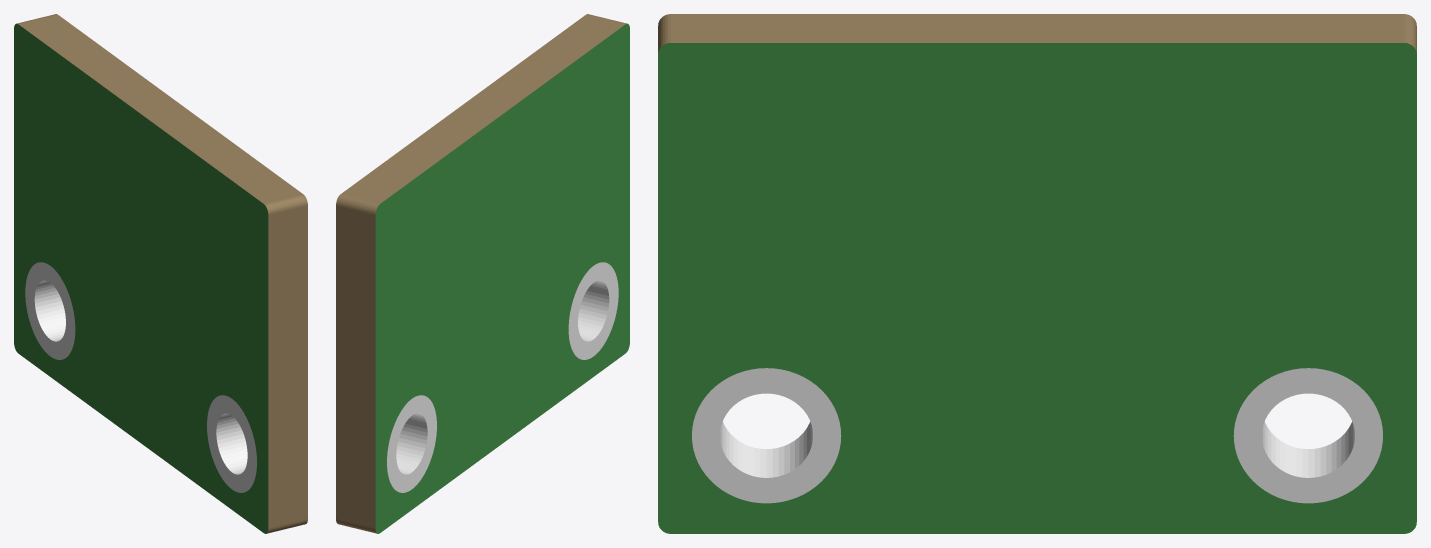
Rendered from tof_front_1.dae.
3 views of the same model, side by side, from view 1: azimuth 30°, elevation 25°; view 2: azimuth 150°, elevation 25°; view 3: azimuth 270°, elevation 25° (orthographic). The views are drawn at different scales.
Visible parts, largest first — view 1: part_0_node, part_1_node, part_2_node; view 2: part_0_node, part_1_node, part_2_node; view 3: part_0_node, part_2_node, part_1_node.
Boxes of the visible parts, bbox=[...] form: part_0_node: bbox=[14, 23, 268, 533]; part_1_node: bbox=[17, 14, 307, 533]; part_2_node: bbox=[25, 262, 256, 492]; part_0_node: bbox=[375, 23, 629, 533]; part_1_node: bbox=[336, 14, 626, 533]; part_2_node: bbox=[387, 262, 618, 492]; part_0_node: bbox=[658, 43, 1416, 533]; part_2_node: bbox=[692, 368, 1382, 503]; part_1_node: bbox=[658, 14, 1416, 53].
Size of the model in its own units: 1.6 by 17.78 by 12.7.
